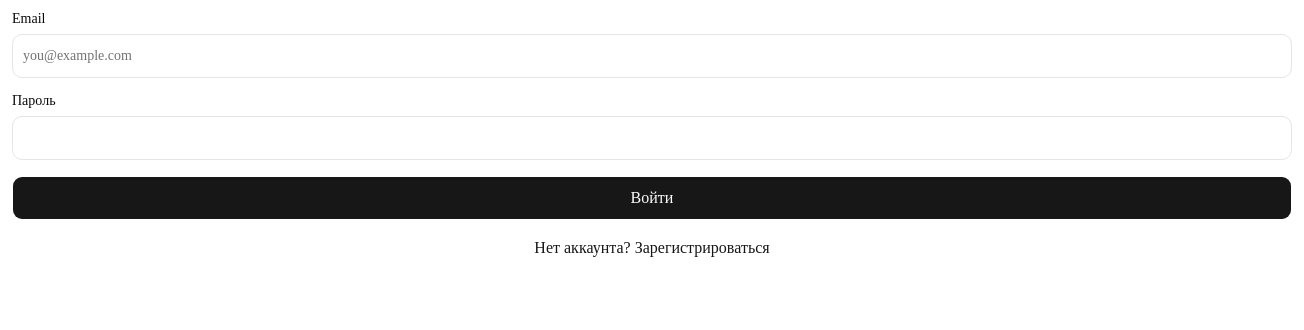
Test: LoginForm › не отправляет запрос при пустой обязательной паре и показывает ошибки
The width and height of the screenshot is (1304, 330).
Click the button "Войти" at (652, 198), box [12,176,1292,220]
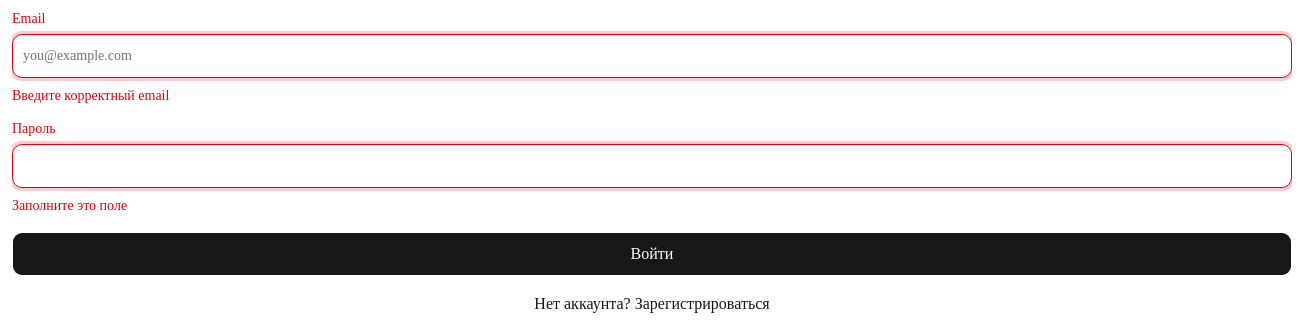
Expected: the text "Введите корректный email" is shown, [12,88,169,103]
Expected: the text "Заполните это поле" is shown, [12,198,127,213]
